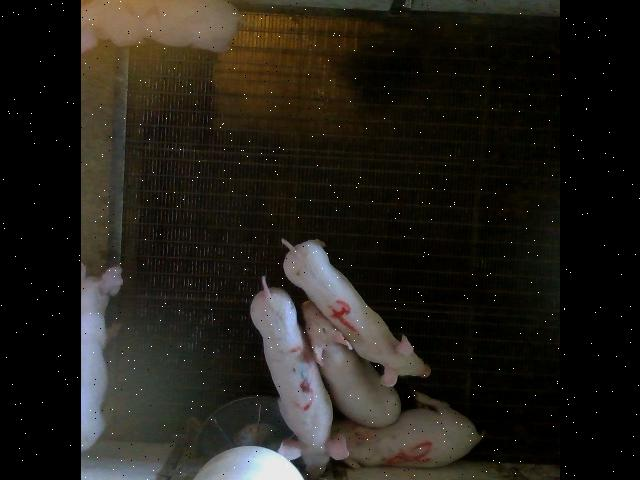pig-1: (80, 265, 122, 451)
pig-2: (82, 0, 240, 51)
pig-3: (250, 278, 348, 475)
pig-4: (282, 239, 429, 385)
pig-5: (331, 391, 482, 466)
